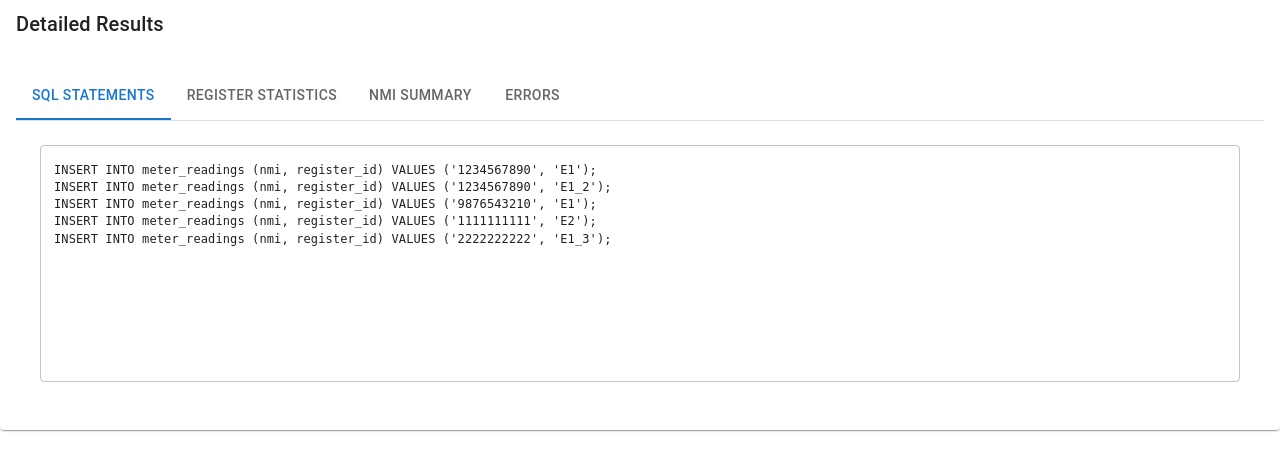
DetailedResults Component › NMI Summary Tab › displays all NMIs as chips
Step 1. Click the tab "NMI Summary" → {"x": 420, "y": 96}, box [353,72,488,120]
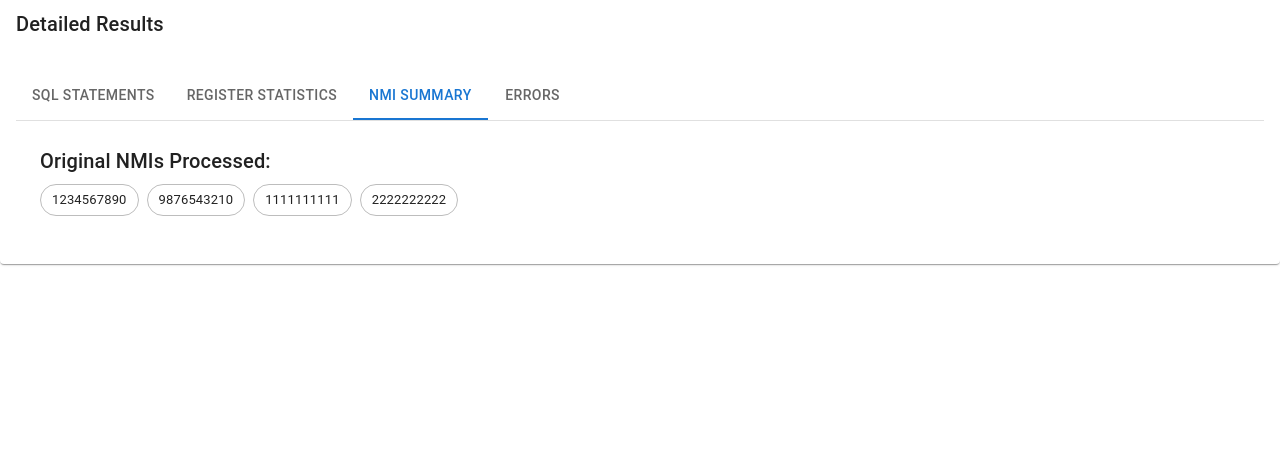
Expected: the heading "Original NMIs Processed:" is shown, [40,149,271,173]
Expected: the text "1234567890" is shown, [52,192,127,207]
Expected: the text "9876543210" is shown, [159,192,233,207]
